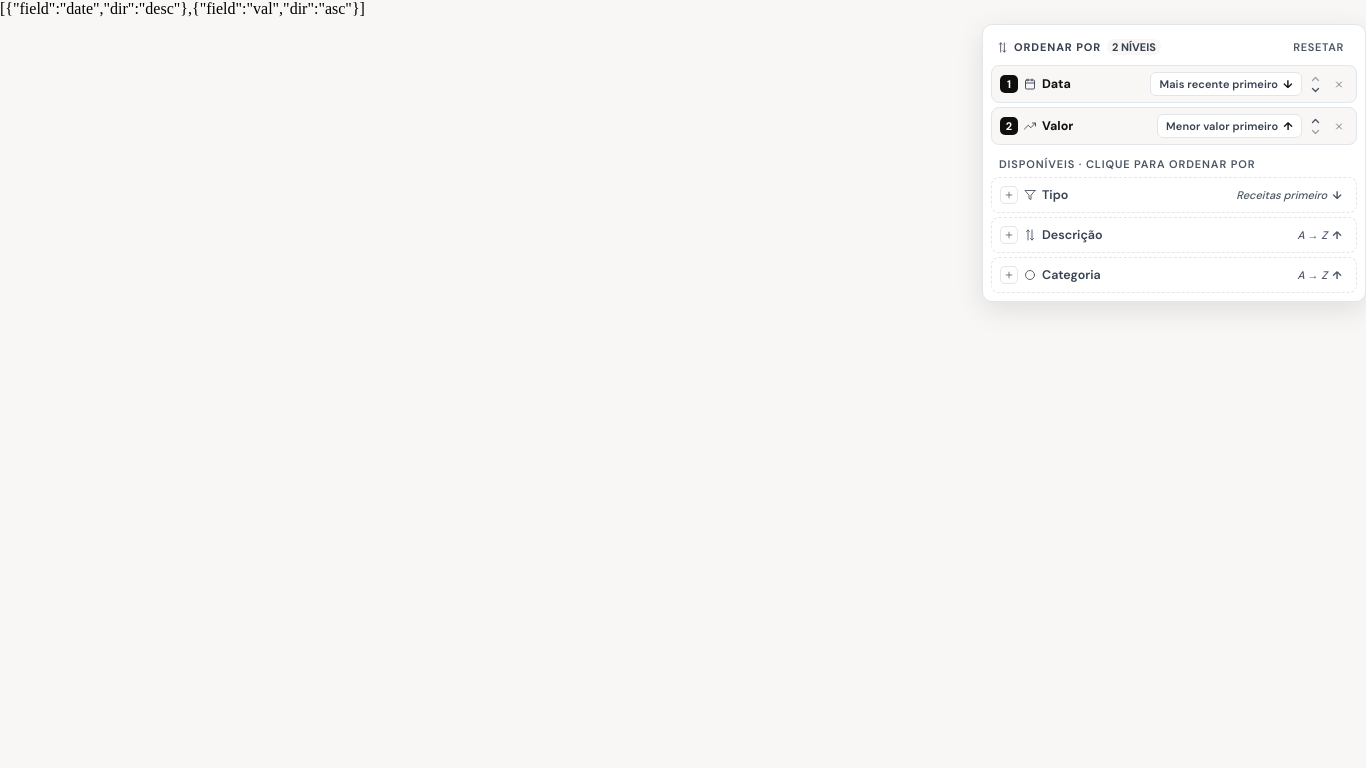
Scenario: <SortMenu> › remover regra com × volta o campo para disponíveis
What coordinates should you click on to do the following:
click the button named "Remover Valor"
I would click on:
 (1339, 126)
Its box is [1328,115,1350,137].
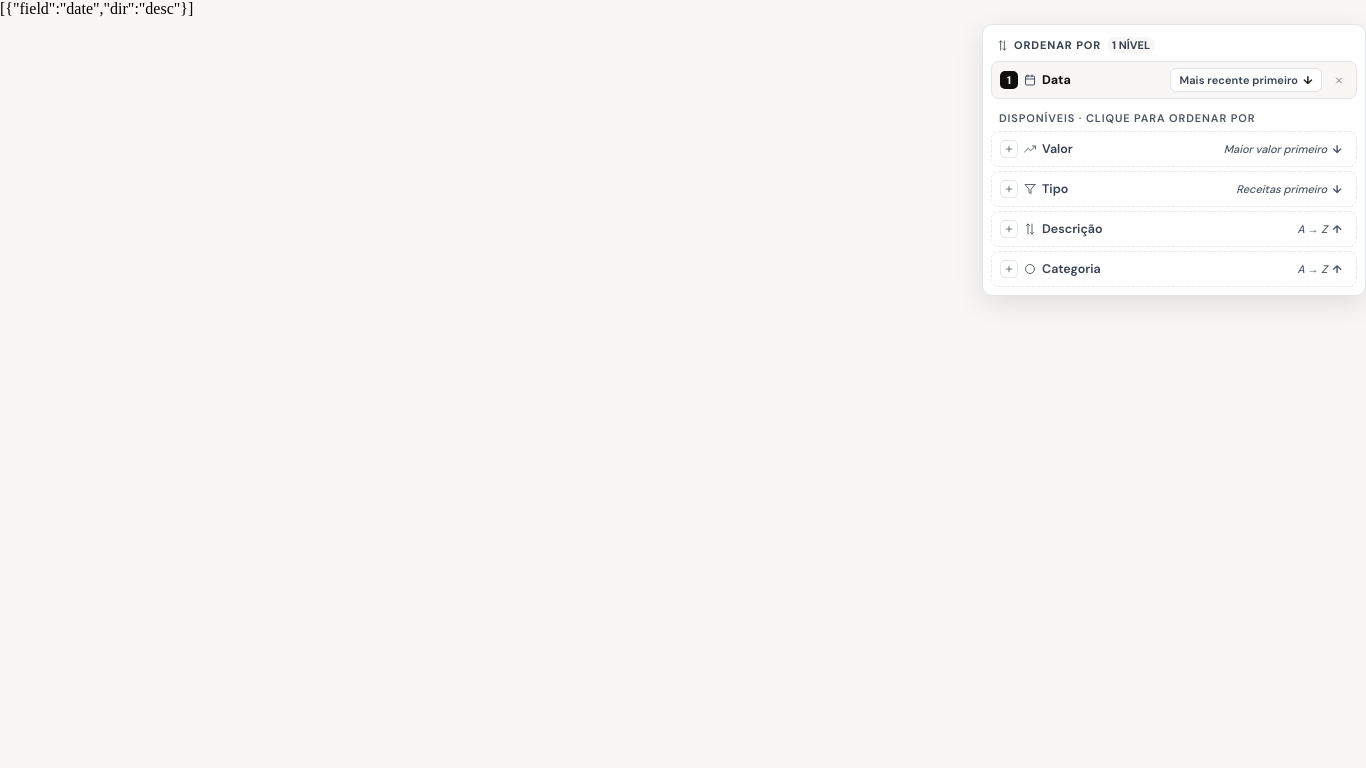
Check: the button with aria-label "Ordenar por Valor" is shown, box [991,131,1357,167]
